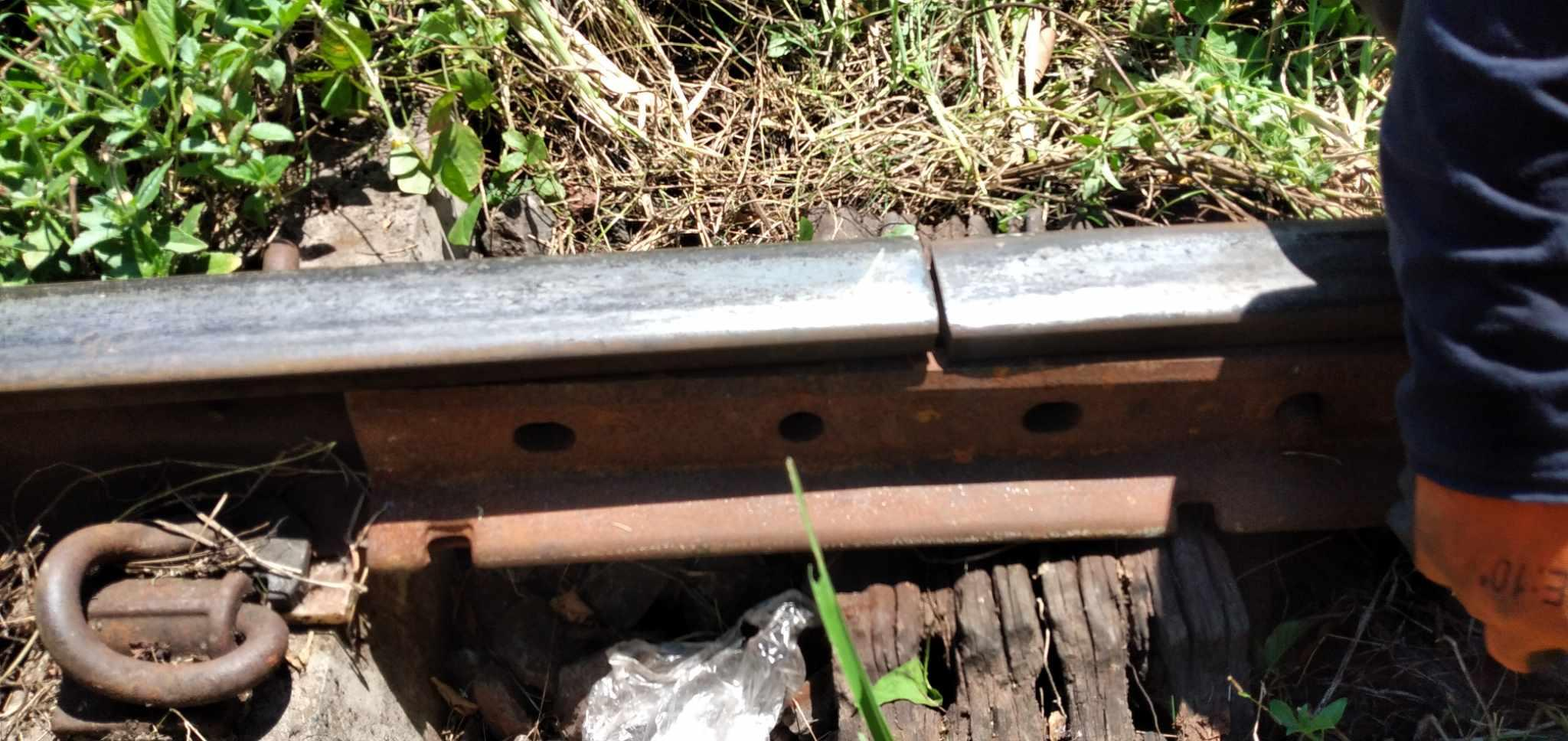railway-gap: (843, 217, 1028, 376)
